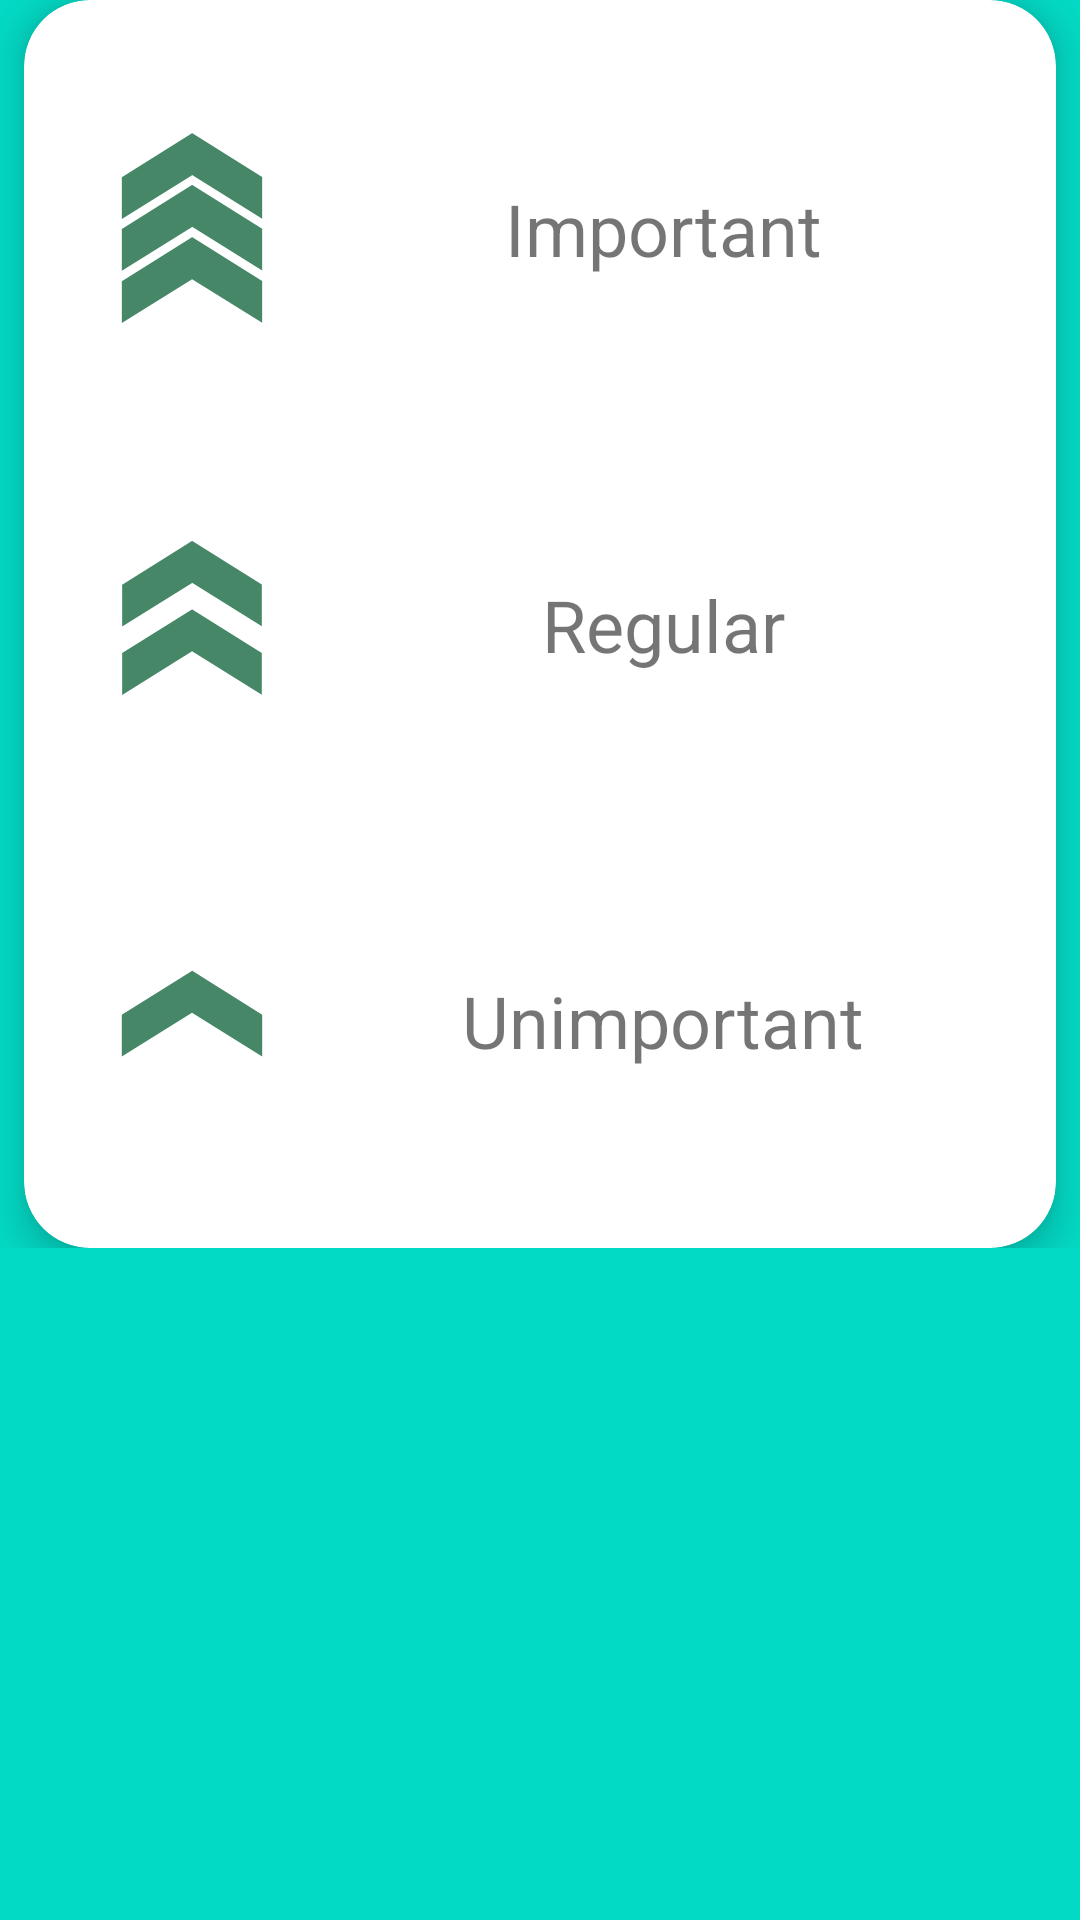

Named icons in this screenshot (1080 × 1920) and their centers, (x,y):
Set event status to important: (192,228)
Set event status to regular: (192,618)
Set event status to unimportant: (192,1013)
